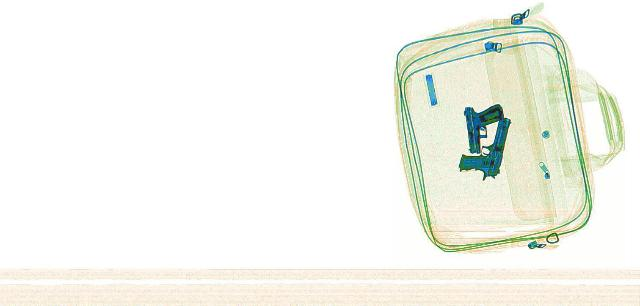Gun: (454, 114, 514, 180), (459, 102, 511, 153)
